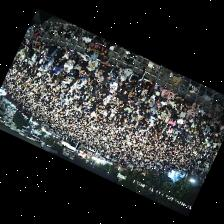person: (128, 64, 146, 85), (64, 52, 77, 71), (43, 48, 57, 64), (68, 63, 80, 80), (47, 62, 61, 76), (98, 61, 112, 75), (142, 79, 155, 94), (84, 65, 97, 78), (160, 88, 174, 100), (173, 94, 185, 108), (119, 67, 131, 79), (133, 83, 143, 97), (53, 46, 64, 58), (78, 53, 88, 66), (77, 67, 85, 83), (109, 78, 118, 92), (61, 48, 70, 61), (88, 57, 97, 70), (123, 82, 132, 95), (94, 84, 104, 95), (165, 106, 175, 117), (97, 70, 107, 81), (47, 43, 56, 55), (118, 76, 127, 87), (203, 112, 211, 124), (187, 108, 195, 120), (196, 106, 203, 119), (190, 101, 199, 111), (97, 77, 107, 86), (118, 94, 127, 104), (167, 118, 175, 129), (166, 97, 174, 108), (45, 57, 53, 68), (112, 64, 118, 78), (33, 40, 42, 49), (209, 115, 217, 125), (154, 84, 162, 94), (155, 94, 162, 105), (173, 104, 181, 113), (149, 94, 155, 106), (181, 102, 190, 110), (108, 68, 113, 82), (104, 40, 113, 47), (161, 110, 167, 120), (177, 112, 185, 119), (27, 38, 34, 46), (183, 113, 188, 122), (158, 101, 164, 108), (220, 124, 223, 134)
